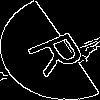R: (25, 25, 98, 78)
